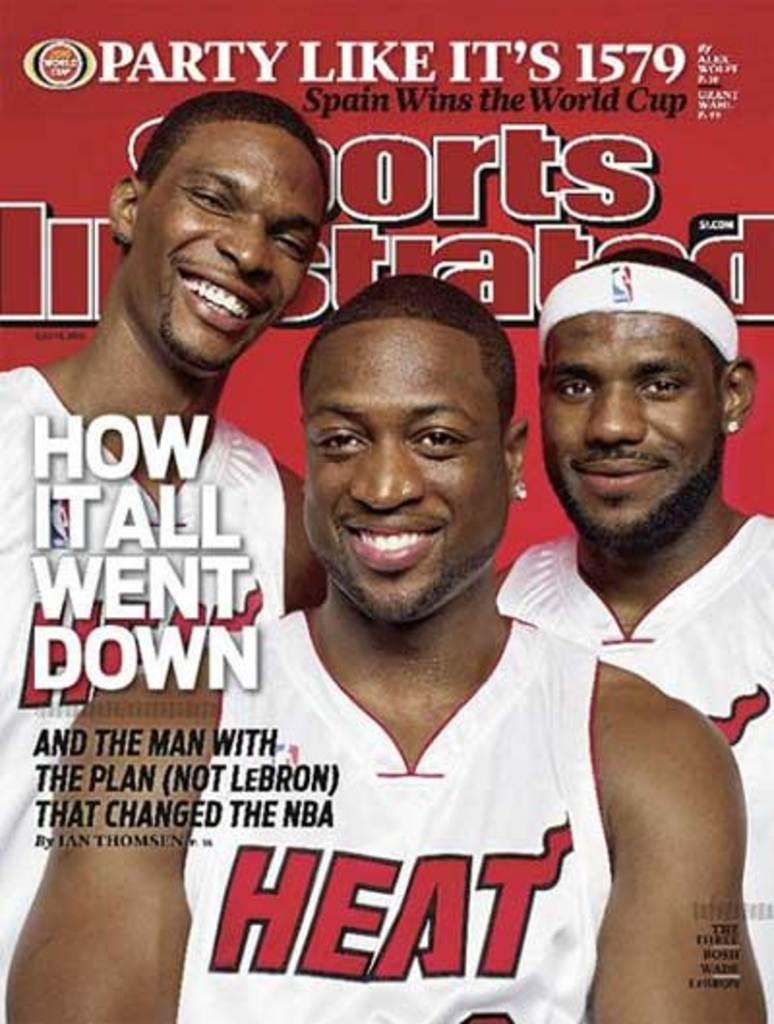Sem Máscara: (304, 322, 507, 620), (133, 123, 321, 365), (537, 308, 721, 542)
